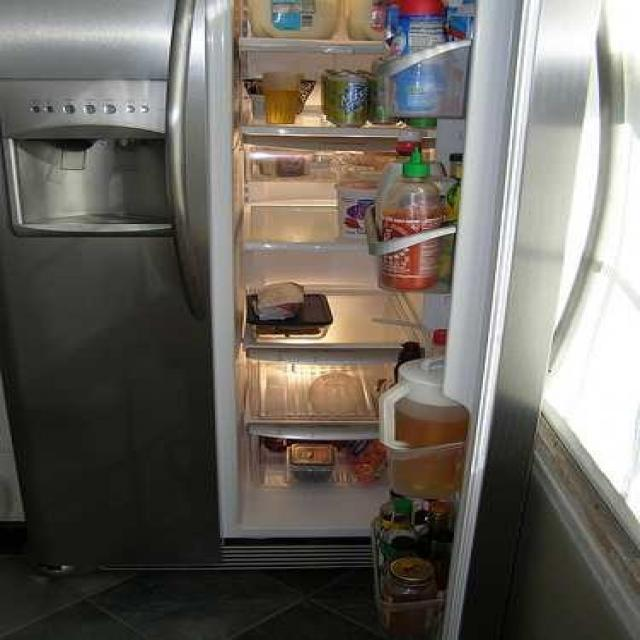refrigerator: (0, 1, 563, 573)
